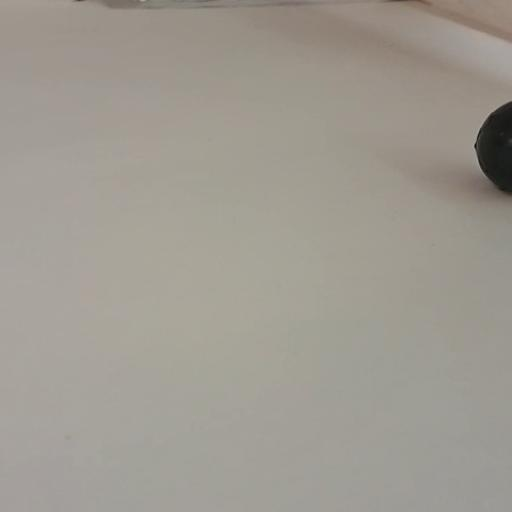dead: (475, 102, 512, 192)
